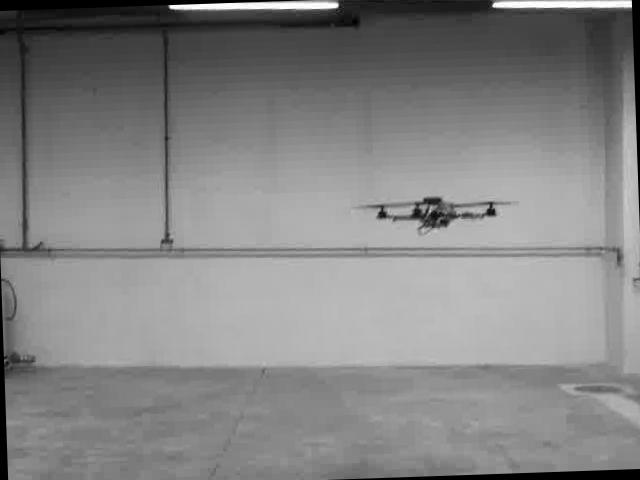drone: (369, 186, 508, 237)
